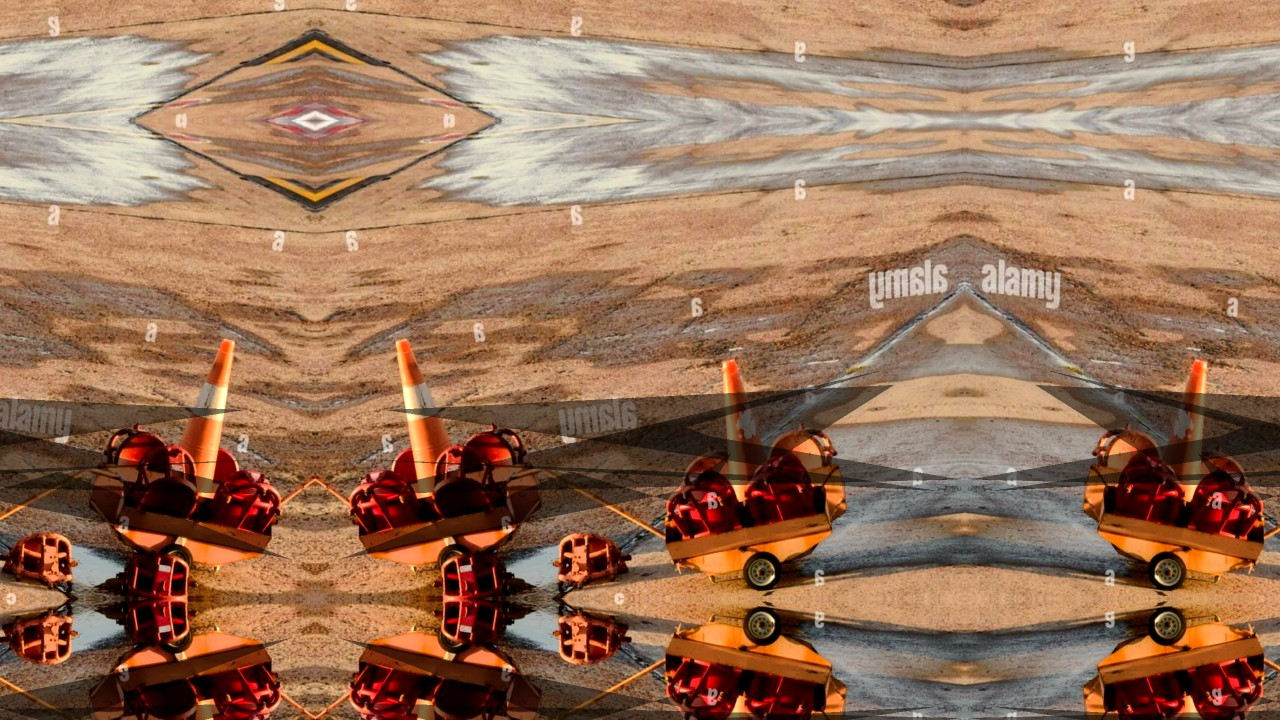chock: (660, 462, 742, 542), (1188, 462, 1270, 542), (126, 441, 209, 520), (421, 441, 504, 520), (542, 525, 635, 594), (542, 604, 635, 673), (0, 525, 88, 594), (0, 604, 88, 673), (740, 449, 816, 528), (1114, 449, 1190, 528), (208, 468, 288, 537), (342, 468, 422, 537), (660, 656, 742, 720), (1188, 656, 1270, 720), (208, 661, 288, 720), (342, 661, 422, 720), (102, 418, 176, 476), (454, 418, 528, 476), (117, 547, 197, 599), (433, 547, 513, 599), (117, 599, 197, 651), (433, 599, 513, 651), (765, 419, 838, 475), (1092, 419, 1165, 475), (740, 670, 816, 720), (1114, 670, 1190, 720), (126, 678, 209, 720), (421, 678, 504, 720), (675, 445, 732, 499), (1198, 445, 1255, 499), (212, 443, 248, 484), (382, 443, 418, 484), (675, 699, 732, 720), (1198, 699, 1255, 720), (212, 714, 248, 720), (382, 714, 418, 720)
wheel: (741, 550, 785, 594), (1145, 550, 1189, 594), (741, 604, 785, 648), (1145, 604, 1189, 648), (152, 541, 198, 580), (432, 541, 478, 580), (152, 618, 198, 657), (432, 618, 478, 657)
